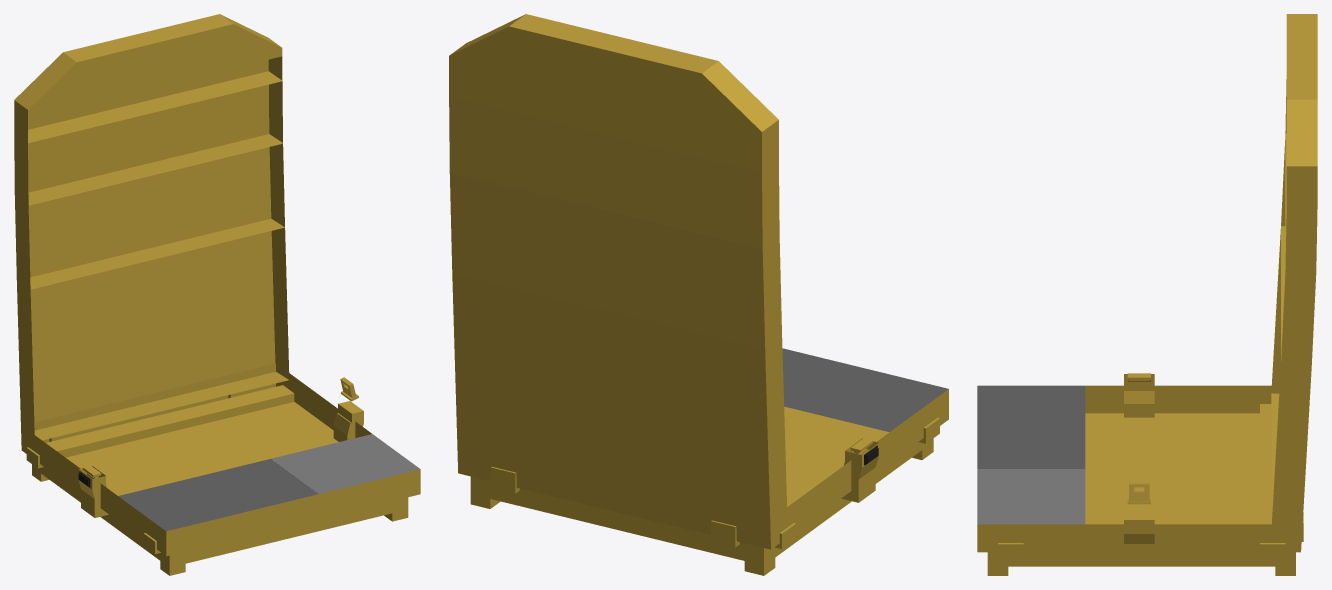
Rendered from carseat.obj.
3 renders of one model, left to right at view 1: azimuth 30°, elevation 25°; view 2: azimuth 150°, elevation 25°; view 3: azimuth 270°, elevation 25°, orthographic. The views are drawn at different scales.
Parts seen in each view (by area): view 1: cube, bucklehook; view 2: cube, bucklehook; view 3: cube, bucklehook, npcbeltinactive.
Part boxes in pixels (<box>): cube: <box>14,14,420,575</box>; bucklehook: <box>78,401,363,517</box>; cube: <box>449,14,948,575</box>; bucklehook: <box>841,438,878,502</box>; cube: <box>977,14,1317,575</box>; bucklehook: <box>1124,374,1154,564</box>; npcbeltinactive: <box>1127,483,1150,504</box>.
Size of the model in its own units: 0.8988 by 1.27 by 0.865.
